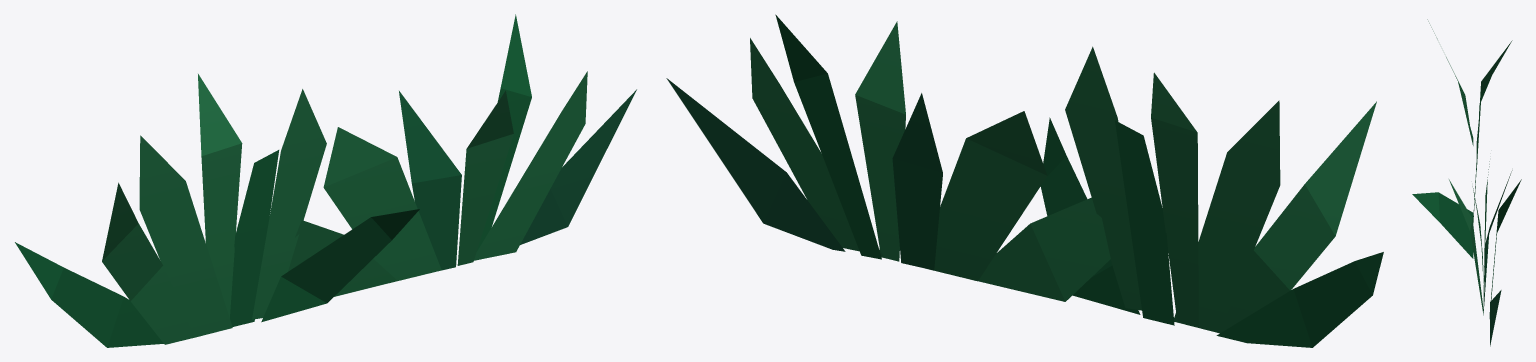
The model's file is Grass_01.fbx.
3 renders of one model, left to right at view 1: azimuth 30°, elevation 25°; view 2: azimuth 150°, elevation 25°; view 3: azimuth 270°, elevation 25°, orthographic. The views are drawn at different scales.
Visible parts, largest first — view 1: grass-long.009; view 2: grass-long.009; view 3: grass-long.009.
Part boxes in pixels (x1,y1,x2,y2): grass-long.009: [15, 14, 636, 347]; grass-long.009: [666, 14, 1383, 347]; grass-long.009: [1412, 19, 1521, 346].
Size of the model in its own units: 201 by 73.94 by 40.12.
